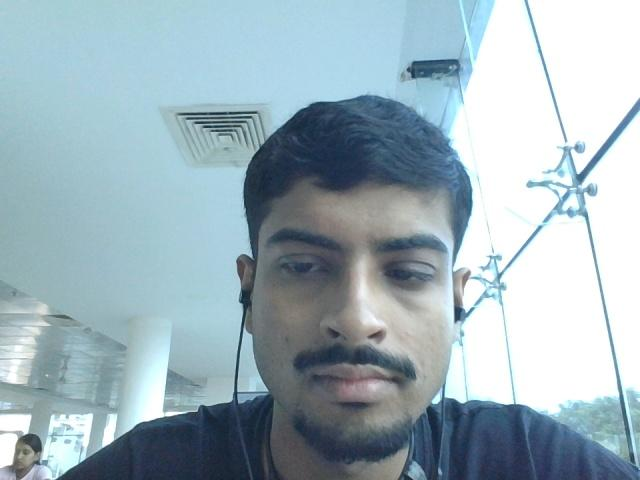confident: (172, 89, 538, 475)
